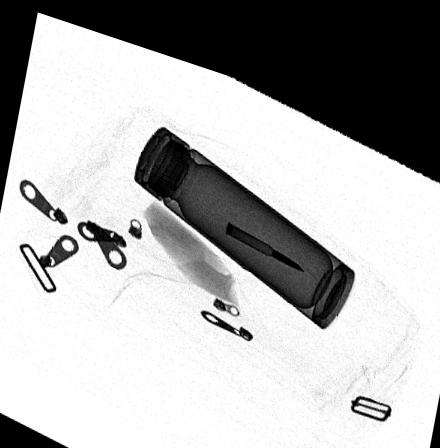Bullet: (222, 204, 305, 252)
